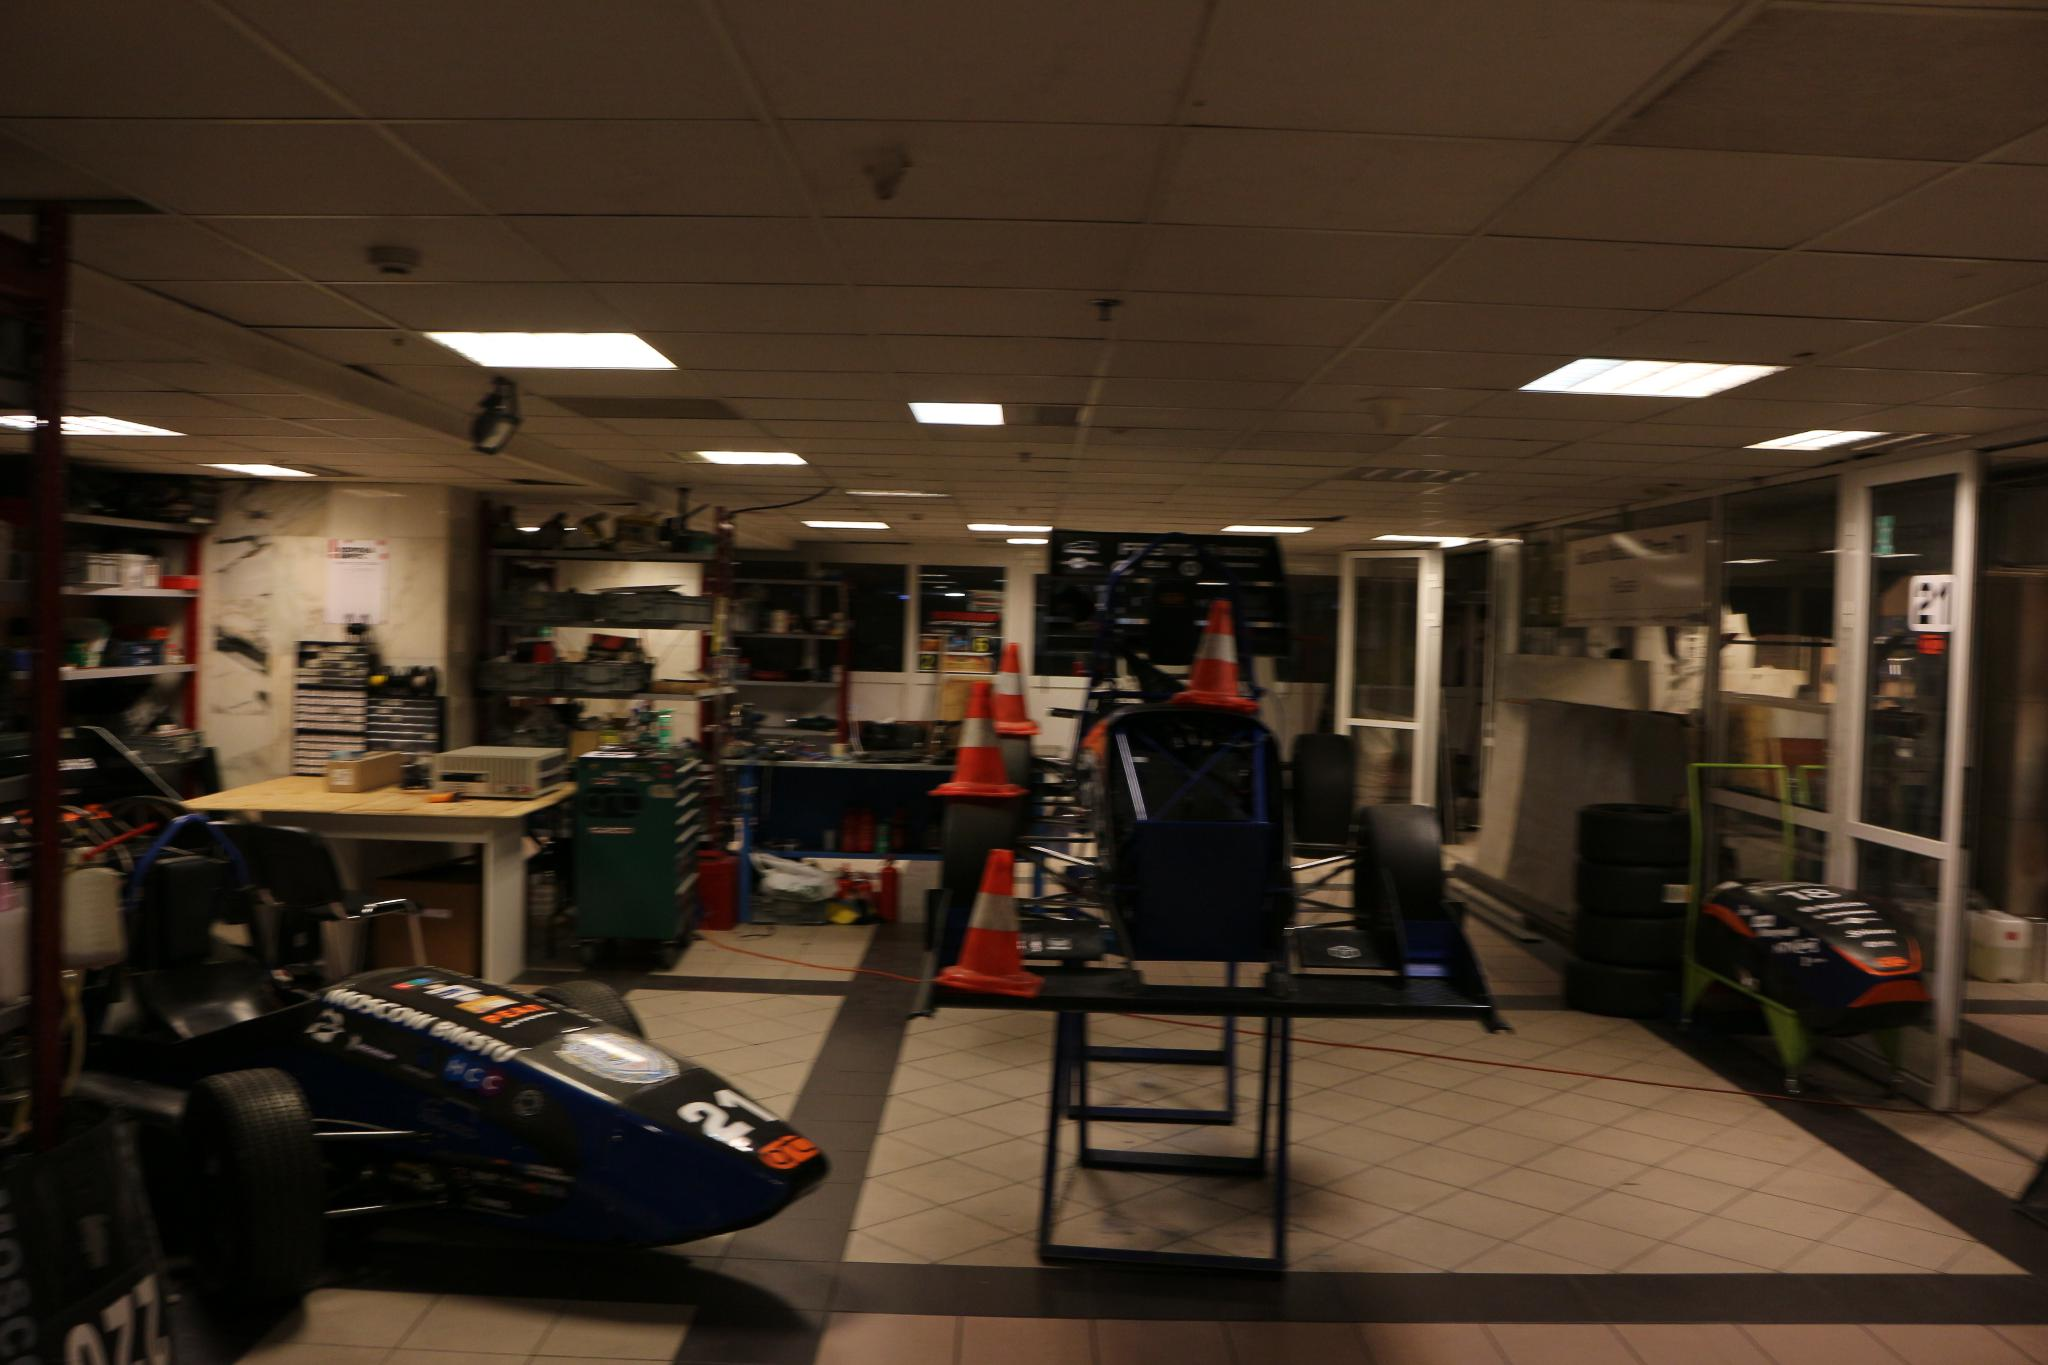Orange_Cone: (923, 841, 1042, 1004), (929, 673, 1028, 801), (1169, 594, 1258, 711), (971, 641, 1045, 737)
